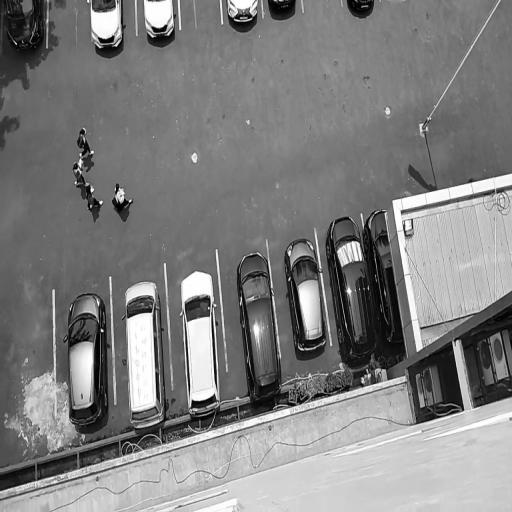Car: (318, 205, 382, 369), (230, 242, 286, 408), (62, 282, 120, 432), (174, 266, 228, 420), (119, 278, 169, 430), (362, 198, 402, 369), (282, 220, 328, 357), (86, 0, 132, 57), (0, 0, 46, 55), (138, 0, 180, 55), (224, 0, 261, 36)
Space Available: (0, 287, 54, 427), (47, 0, 90, 46), (178, 0, 222, 34)
